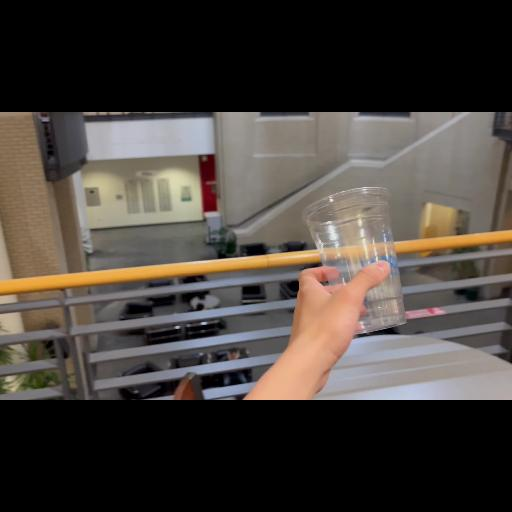lp_plastic_cup: (304, 188, 408, 334)
